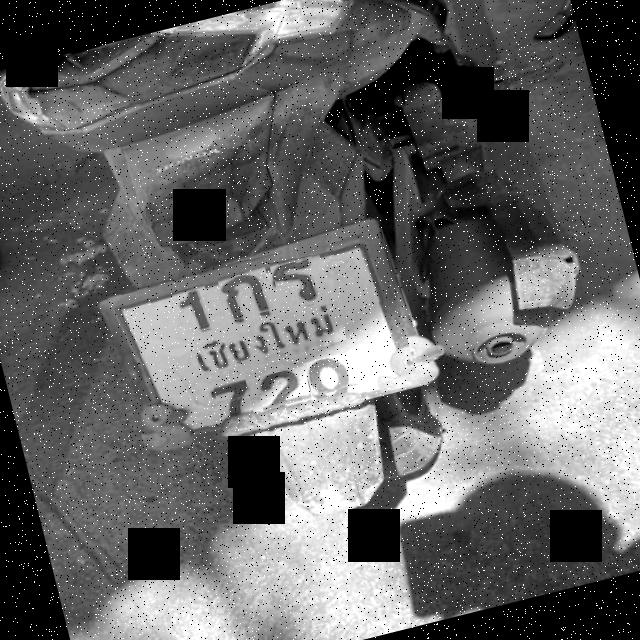letters: (269, 250, 330, 312), (217, 266, 276, 322), (303, 348, 367, 396), (208, 361, 255, 426), (254, 366, 312, 411), (170, 284, 214, 335)
license-plate: (111, 230, 419, 443)
province: (176, 300, 348, 384)
